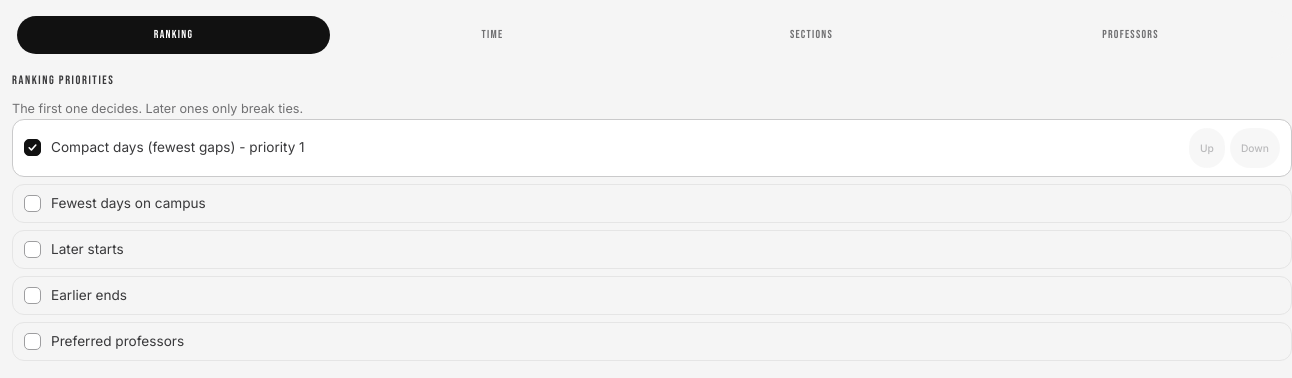
it: PreferencesSection professor ratings › lists nobody from a slot the student excluded
Click the tab "Professors": click(1130, 35) [974,16,1287,54]
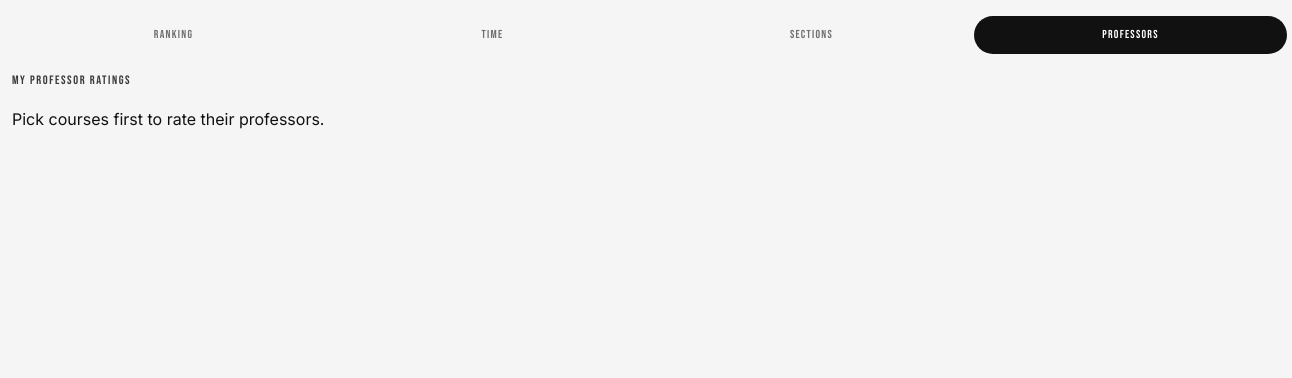
expect the text "Pick courses first to rate their professors." is shown: met, box [12,109,324,129]
